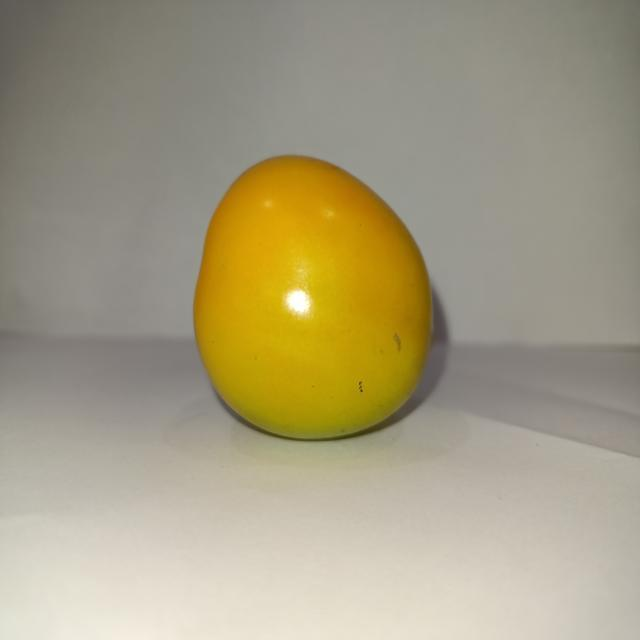Red: (191, 152, 433, 441)
